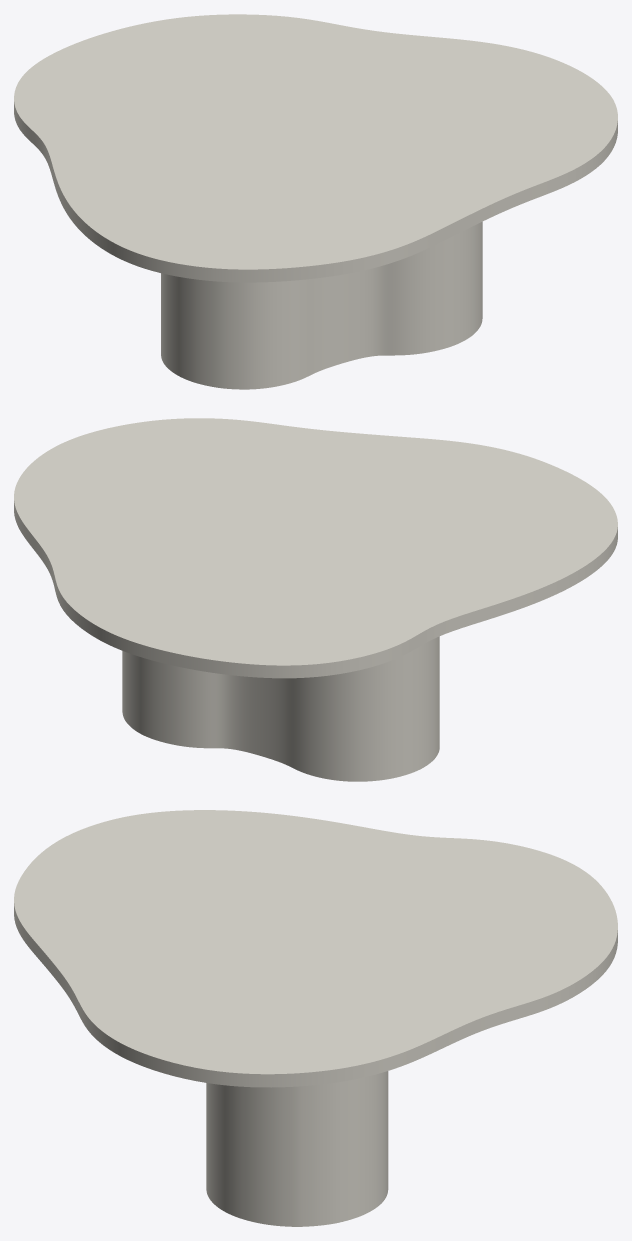
The model's file is pale_topone_standard_riverwave.glb.
3 views of the same model, one above another, from view 1: azimuth 30°, elevation 25°; view 2: azimuth 150°, elevation 25°; view 3: azimuth 270°, elevation 25° (orthographic). The views are drawn at different scales.
Visible parts, largest first — view 1: standard_topone, riverwave; view 2: standard_topone, riverwave; view 3: standard_topone, riverwave.
Boxes of the visible parts, bbox=[...] form: standard_topone: bbox=[14, 14, 617, 282]; riverwave: bbox=[161, 221, 482, 389]; standard_topone: bbox=[14, 418, 617, 678]; riverwave: bbox=[122, 636, 439, 781]; standard_topone: bbox=[14, 810, 617, 1087]; riverwave: bbox=[206, 1071, 388, 1226].
Size of the model in its own units: 6.83 by 2.5 by 6.6.
1 material, 1 textured.
